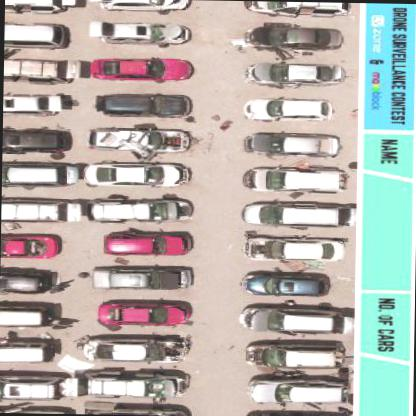car: (80, 334, 174, 365), (244, 378, 341, 408), (240, 166, 338, 194), (250, 26, 342, 54), (96, 266, 188, 294), (99, 56, 184, 86), (236, 270, 326, 298), (96, 298, 180, 328), (239, 202, 335, 228), (240, 307, 332, 334), (244, 342, 332, 370), (101, 93, 188, 121), (244, 134, 337, 160), (88, 162, 176, 188), (249, 62, 336, 88), (89, 21, 179, 46), (99, 198, 179, 224), (247, 97, 328, 122), (104, 232, 182, 256), (1, 128, 67, 156), (127, 130, 197, 156), (55, 0, 119, 26), (4, 92, 72, 116), (246, 2, 338, 18), (6, 200, 70, 223), (0, 236, 58, 260), (96, 0, 184, 14)
